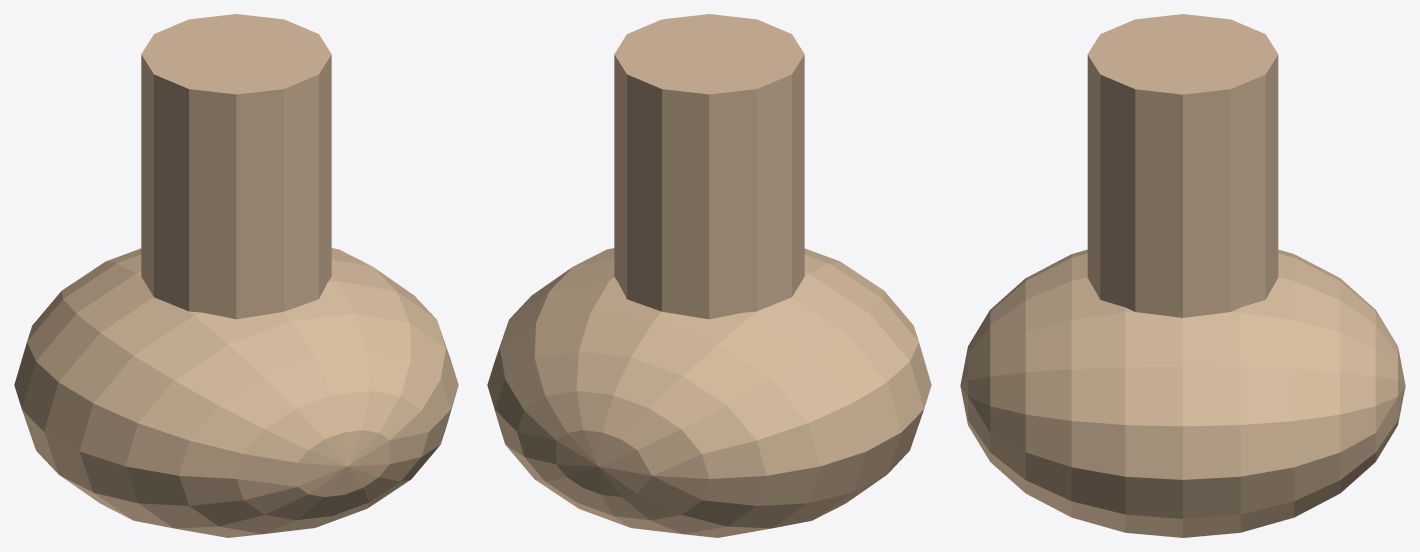
File: DrawerKnob.glb
3 renders of one model, left to right at view 1: azimuth 30°, elevation 25°; view 2: azimuth 150°, elevation 25°; view 3: azimuth 270°, elevation 25°, orthographic.
Parts seen in each view (by area): view 1: DrawerKnob.001; view 2: DrawerKnob.001; view 3: DrawerKnob.001.
Part boxes in pixels (x1,y1,x2,y2): DrawerKnob.001: (14, 14, 458, 537); DrawerKnob.001: (487, 14, 931, 537); DrawerKnob.001: (960, 14, 1405, 537).
Size of the model in its own units: 0.028 by 0.0314 by 0.028.
